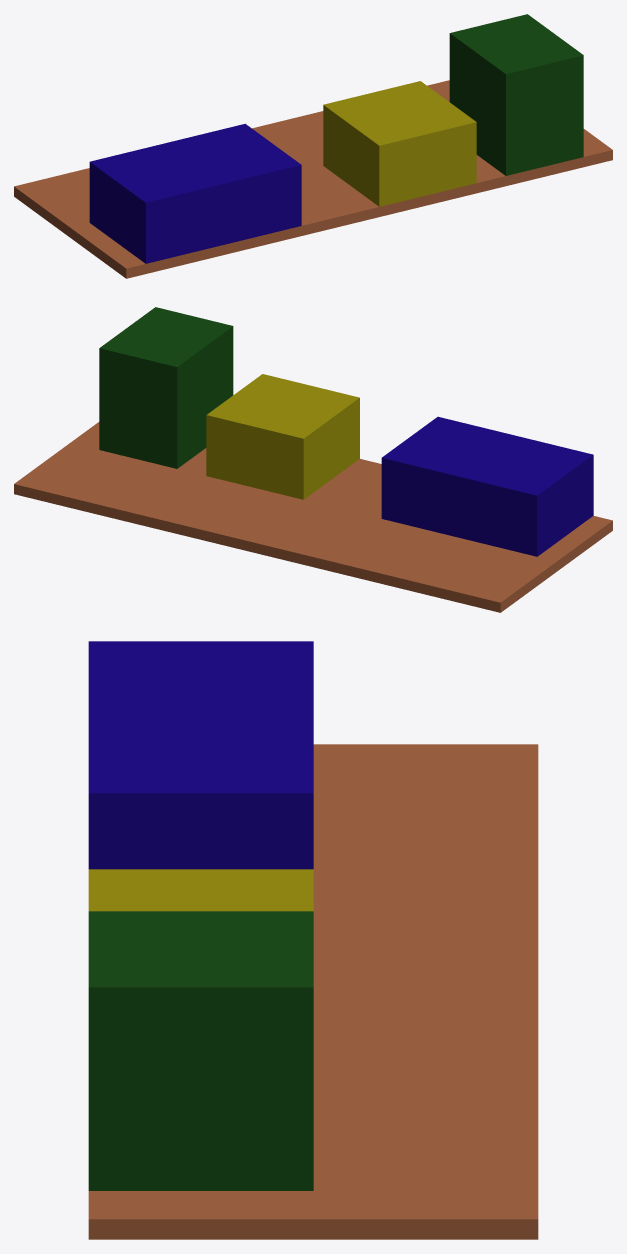
File: placeholder_scena.gltf
3 renders of one model, top to bottom at view 1: azimuth 30°, elevation 25°; view 2: azimuth 150°, elevation 25°; view 3: azimuth 270°, elevation 25°, orthographic. The views are drawn at different scales.
Visible parts, largest first — view 1: Hiša, Hiša.001, Površina, Hiša.002; view 2: Površina, Hiša, Hiša.001, Hiša.002; view 3: Površina, Hiša.001, Hiša, Hiša.002.
Part boxes in pixels (x1,y1,x2,y2): Hiša: [89, 123, 301, 263]; Hiša.001: [449, 14, 583, 175]; Površina: [14, 80, 612, 278]; Hiša.002: [323, 81, 476, 206]; Površina: [14, 422, 612, 612]; Hiša: [381, 416, 593, 556]; Hiša.001: [99, 307, 233, 468]; Hiša.002: [206, 374, 359, 499]; Površina: [88, 744, 538, 1239]; Hiša.001: [88, 911, 313, 1190]; Hiša: [88, 641, 313, 869]; Hiša.002: [88, 869, 313, 911].
Bounding box in the file's own units: 50 × 11 × 20.
Materials: 4 (4 with a texture image).
